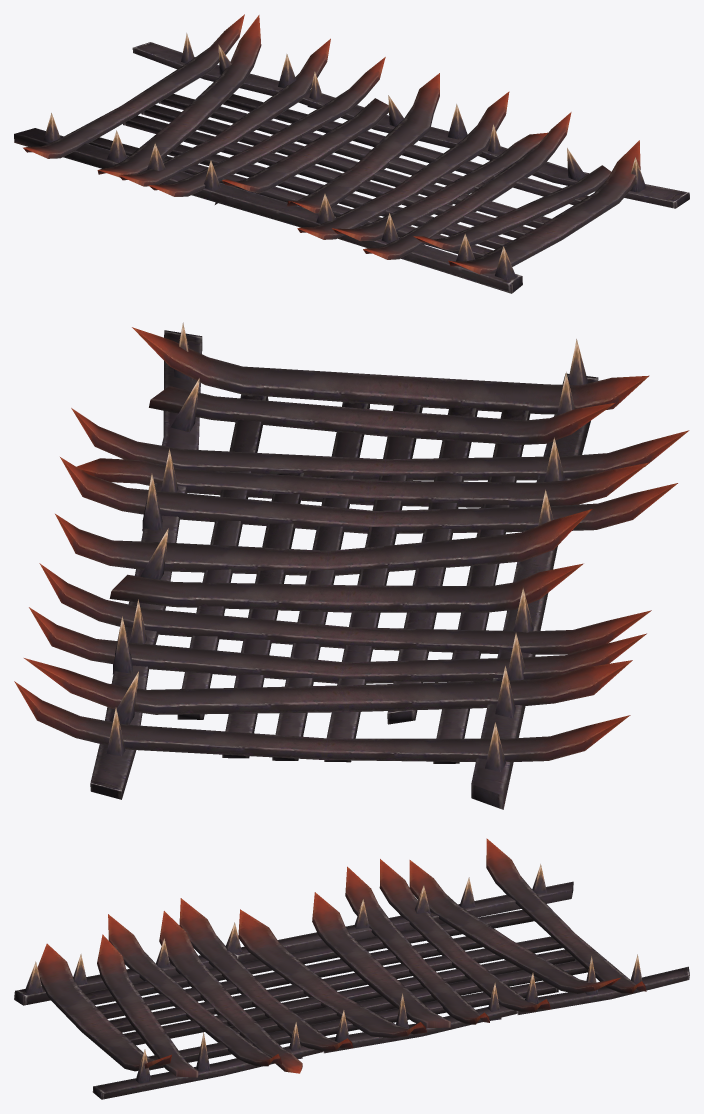
File: Dxlm_tiejiazi.FBX
3 renders of one model, top to bottom at view 1: azimuth 30°, elevation 25°; view 2: azimuth 150°, elevation 25°; view 3: azimuth 270°, elevation 25°, orthographic. The views are drawn at different scales.
Parts seen in each view (by area): view 1: Dxlm_tiejiazi; view 2: Dxlm_tiejiazi; view 3: Dxlm_tiejiazi.
Part boxes in pixels (<box>): Dxlm_tiejiazi: <box>14,14,689,293</box>; Dxlm_tiejiazi: <box>14,322,689,809</box>; Dxlm_tiejiazi: <box>14,838,689,1099</box>.
Size of the model in its own units: 408 by 499 by 39.58.
